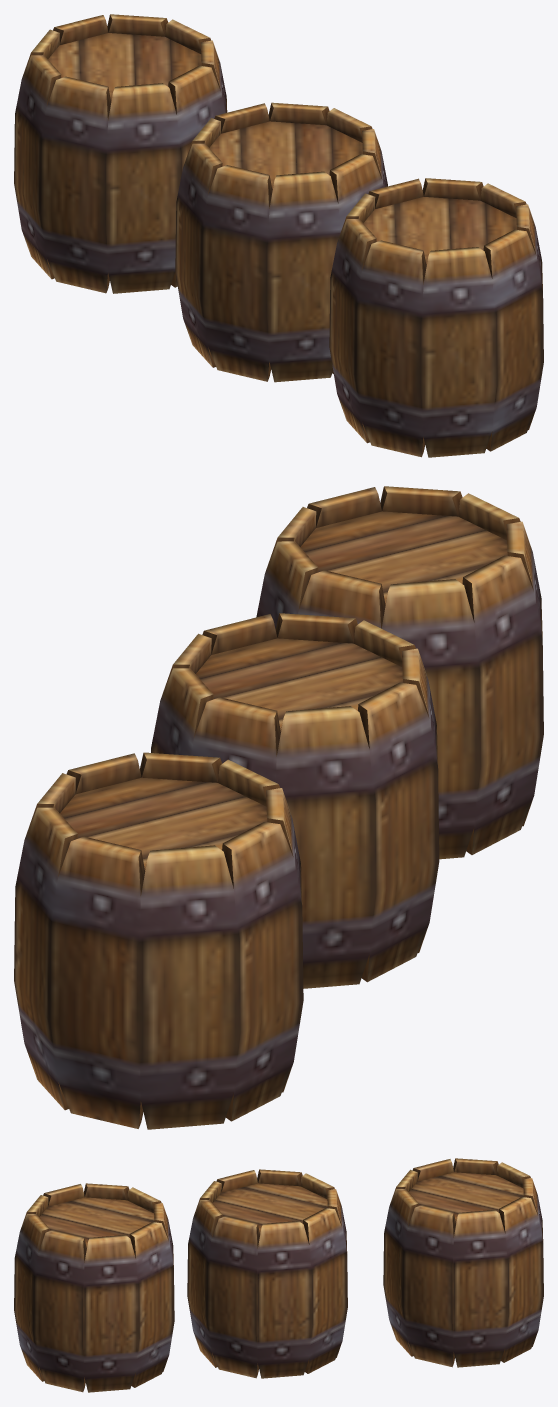
File: Area_07_12.fbx
3 renders of one model, top to bottom at view 1: azimuth 30°, elevation 25°; view 2: azimuth 150°, elevation 25°; view 3: azimuth 270°, elevation 25°, orthographic. The views are drawn at different scales.
Visible parts, largest first — view 1: Area_07_12; view 2: Area_07_12; view 3: Area_07_12.
Boxes of the visible parts, box(x1,y1,x2,y2) form: Area_07_12: box(14, 14, 543, 457); Area_07_12: box(14, 486, 543, 1129); Area_07_12: box(14, 1158, 543, 1392).
Bounding box in the file's own units: 152 × 114 × 364.
